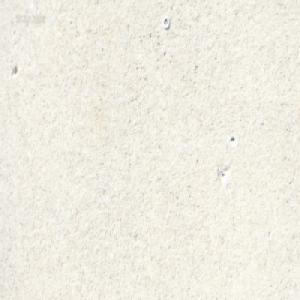Washer: (162, 15, 169, 29)
